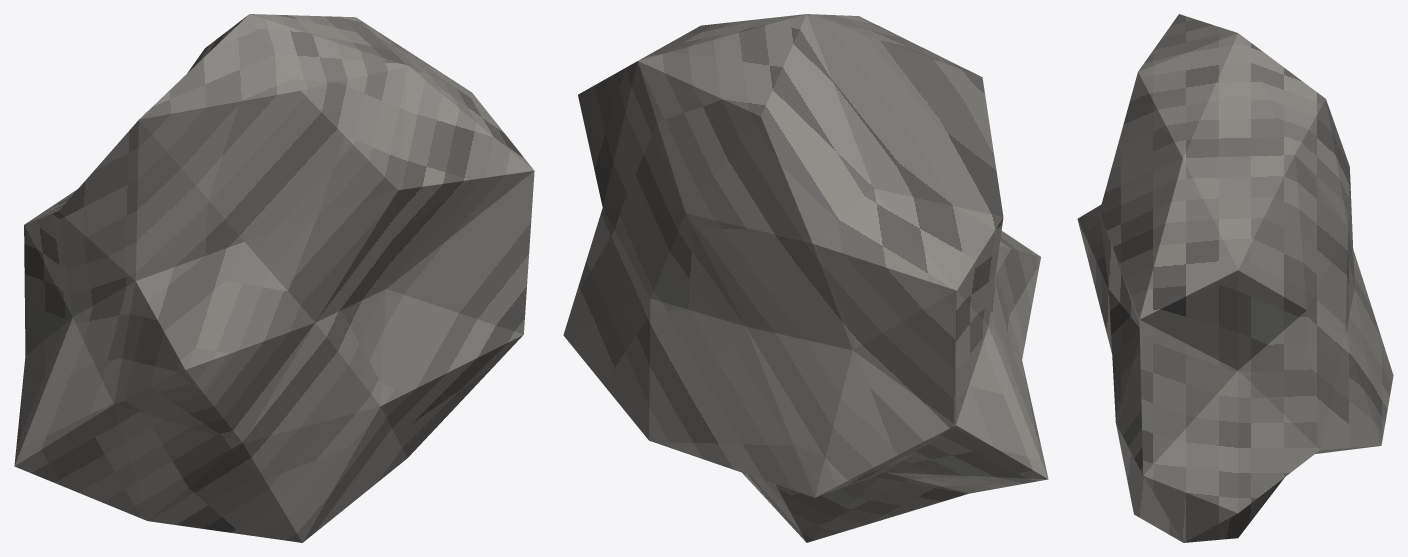
Rendered from stone_small_1.glb.
3 renders of one model, left to right at view 1: azimuth 30°, elevation 25°; view 2: azimuth 150°, elevation 25°; view 3: azimuth 270°, elevation 25°, orthographic. The views are drawn at different scales.
Parts seen in each view (by area): view 1: stone; view 2: stone; view 3: stone.
Boxes of the visible parts, bbox=[...] form: stone: bbox=[14, 14, 534, 542]; stone: bbox=[563, 14, 1048, 542]; stone: bbox=[1077, 14, 1393, 542].
Bounding box in the file's own units: 0.5105 × 0.5339 × 0.3029.
Materials: 1 (1 with a texture image).
